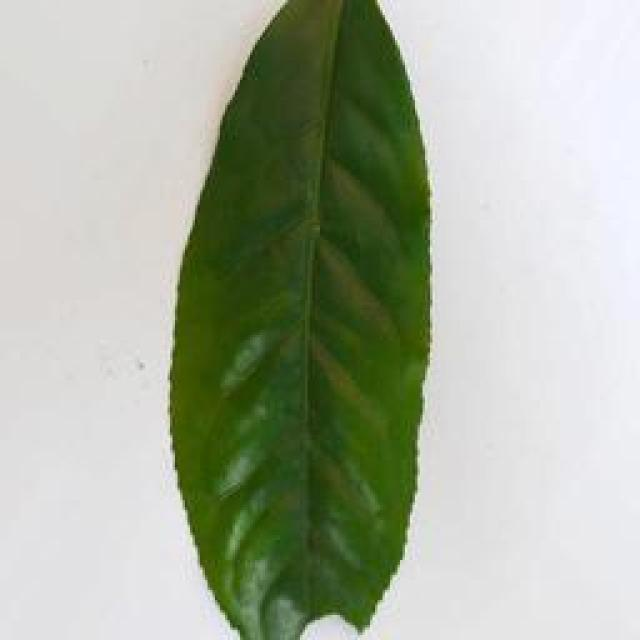Healthy: (176, 2, 436, 630)
